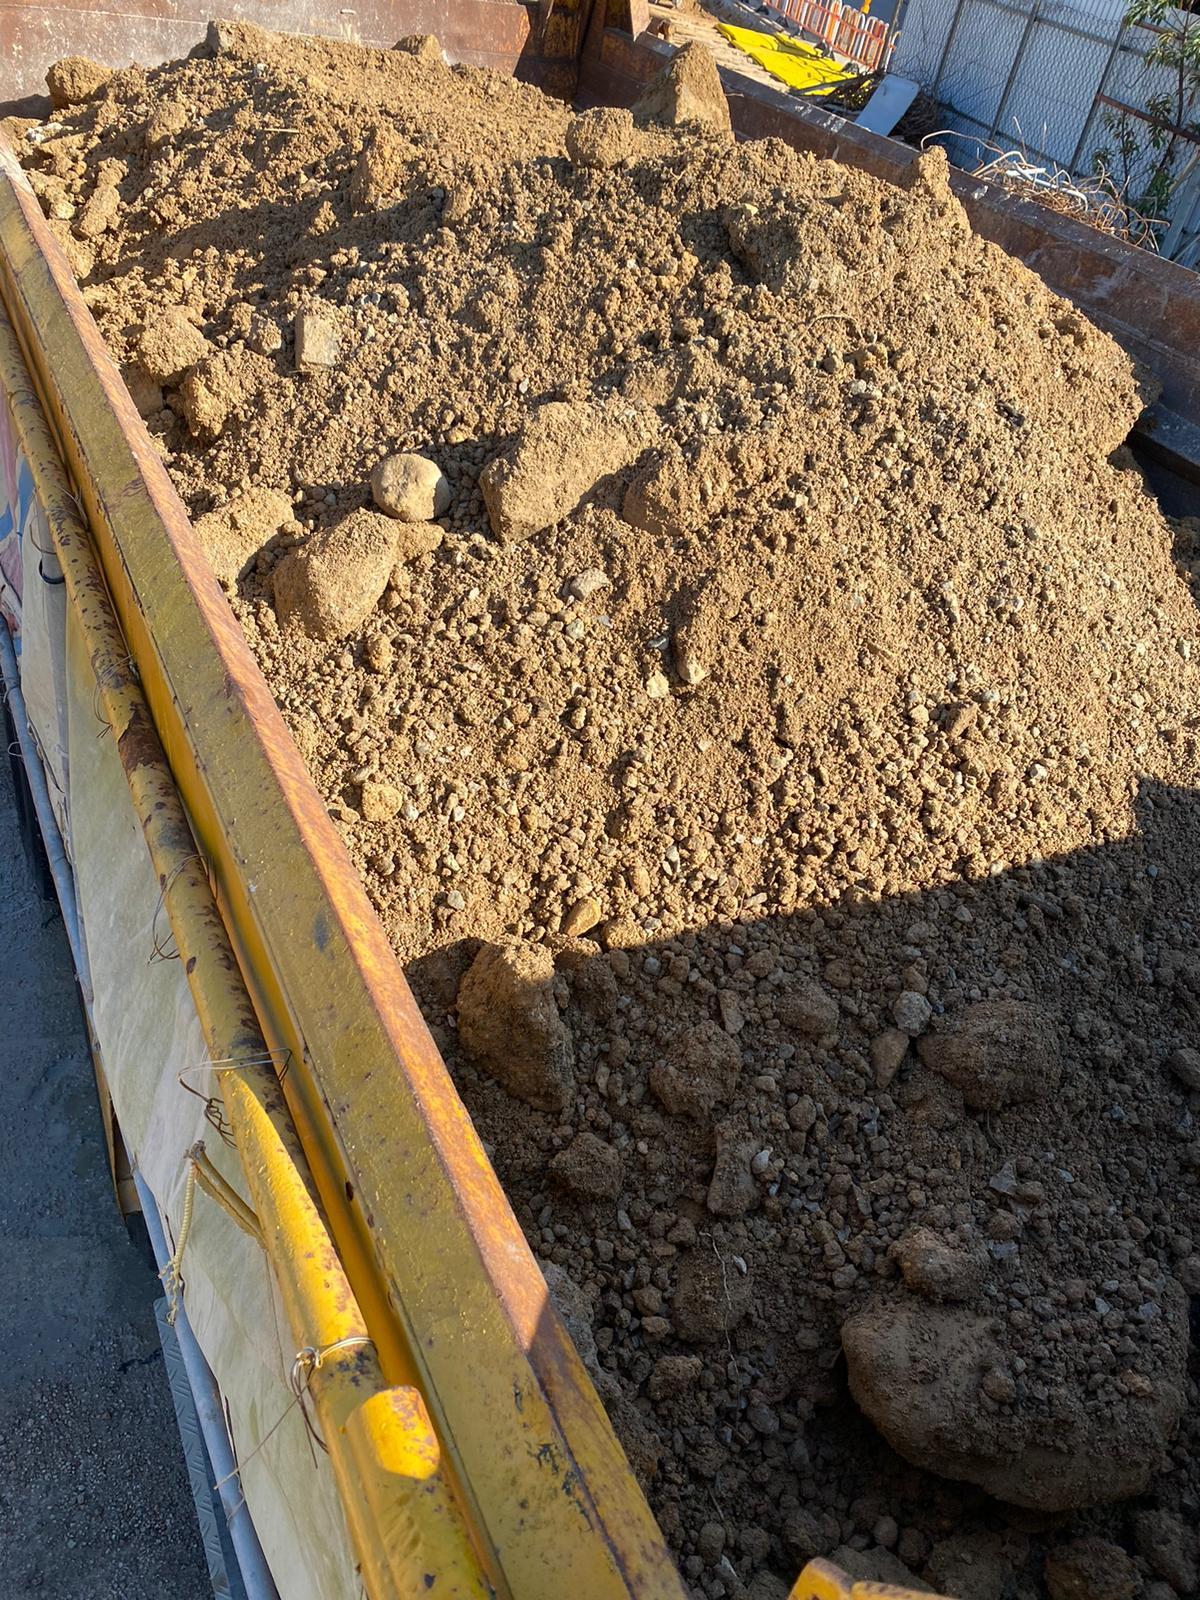dry: (40, 53, 1200, 1600)
